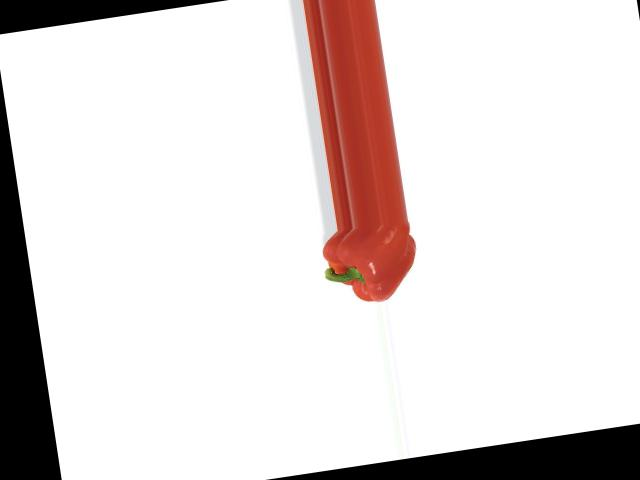bell_pepper: (306, 217, 433, 311)
